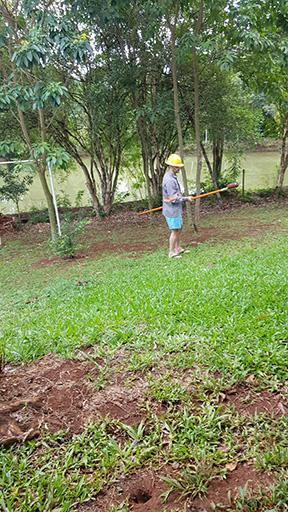helmet: (165, 153, 184, 176)
